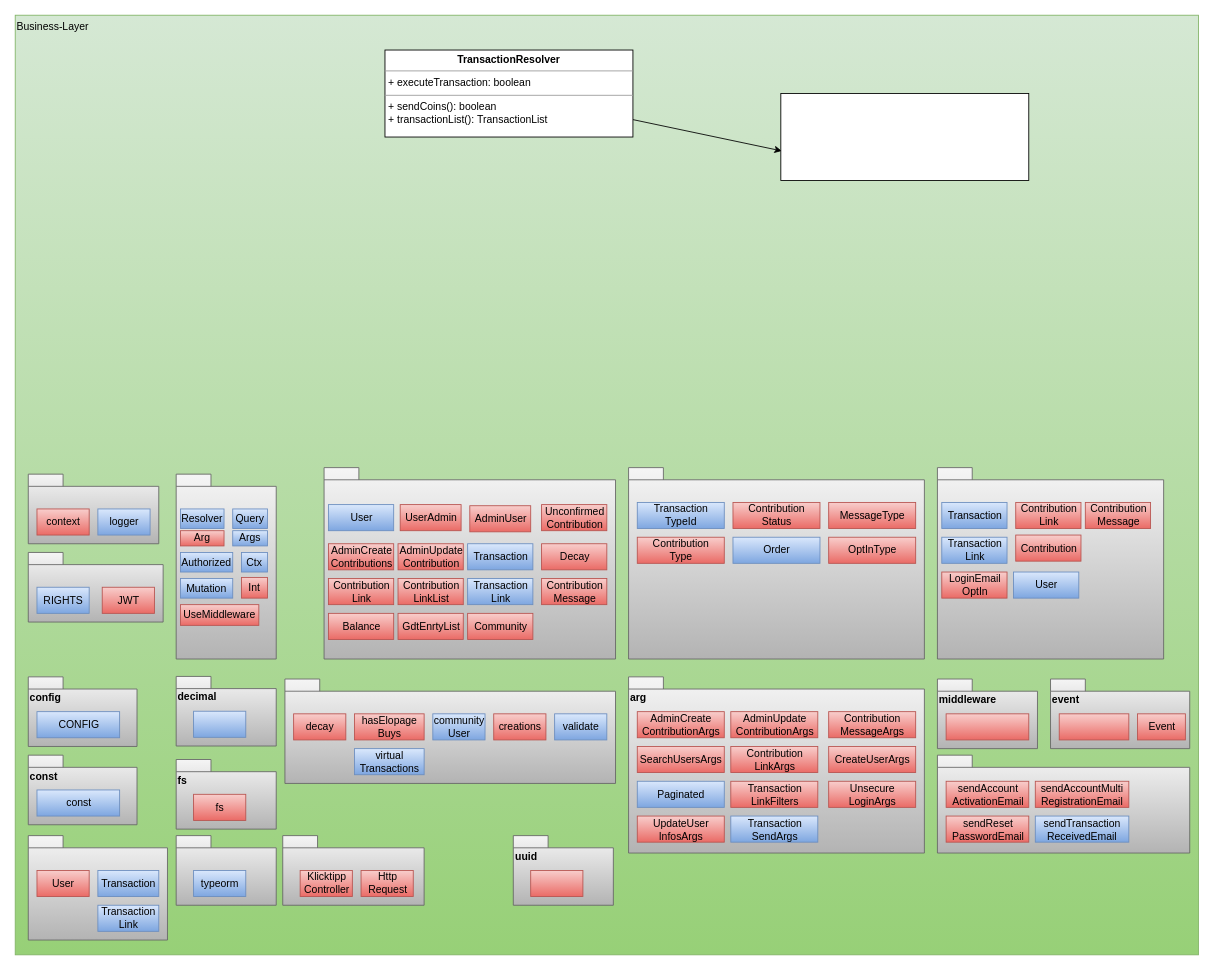
This 1214x970 diagram has some shape labels left out. The shapes that lost their labels are listed below. From the top down, each one's box as (x1, y1, x2, y2) in pixels, then its label:
(780, 93, 1029, 181): BalanceResolver + balance(): Balance
(27, 473, 159, 544): server
(175, 473, 276, 659): type-graphql
(323, 467, 616, 659): model
(628, 467, 924, 659): enum
(937, 467, 1164, 659): entity
(27, 552, 163, 622): auth
(193, 710, 246, 737): js-light
(284, 678, 616, 783): util
(945, 713, 1029, 740): klicktipp Middleware
(1058, 713, 1129, 740): EventProtocol Emitter
(937, 754, 1190, 853): mailer
(27, 835, 167, 940): repository
(175, 835, 276, 905): dbTools
(282, 835, 424, 905): apis
(530, 870, 583, 897): v4
